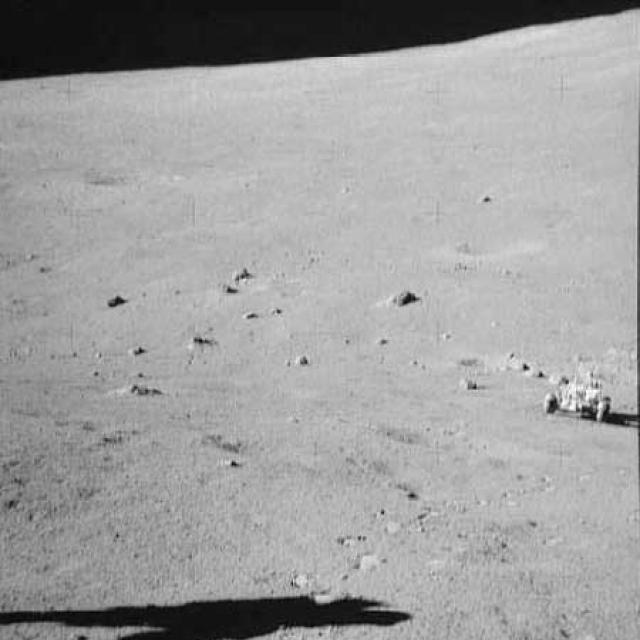artifact: (541, 351, 617, 428)
crater: (440, 232, 553, 254)
rock: (376, 278, 428, 312), (218, 262, 257, 282), (104, 286, 130, 312), (179, 332, 216, 349), (126, 340, 149, 360), (458, 372, 481, 392), (238, 303, 258, 324), (265, 300, 284, 320), (293, 349, 313, 368)
